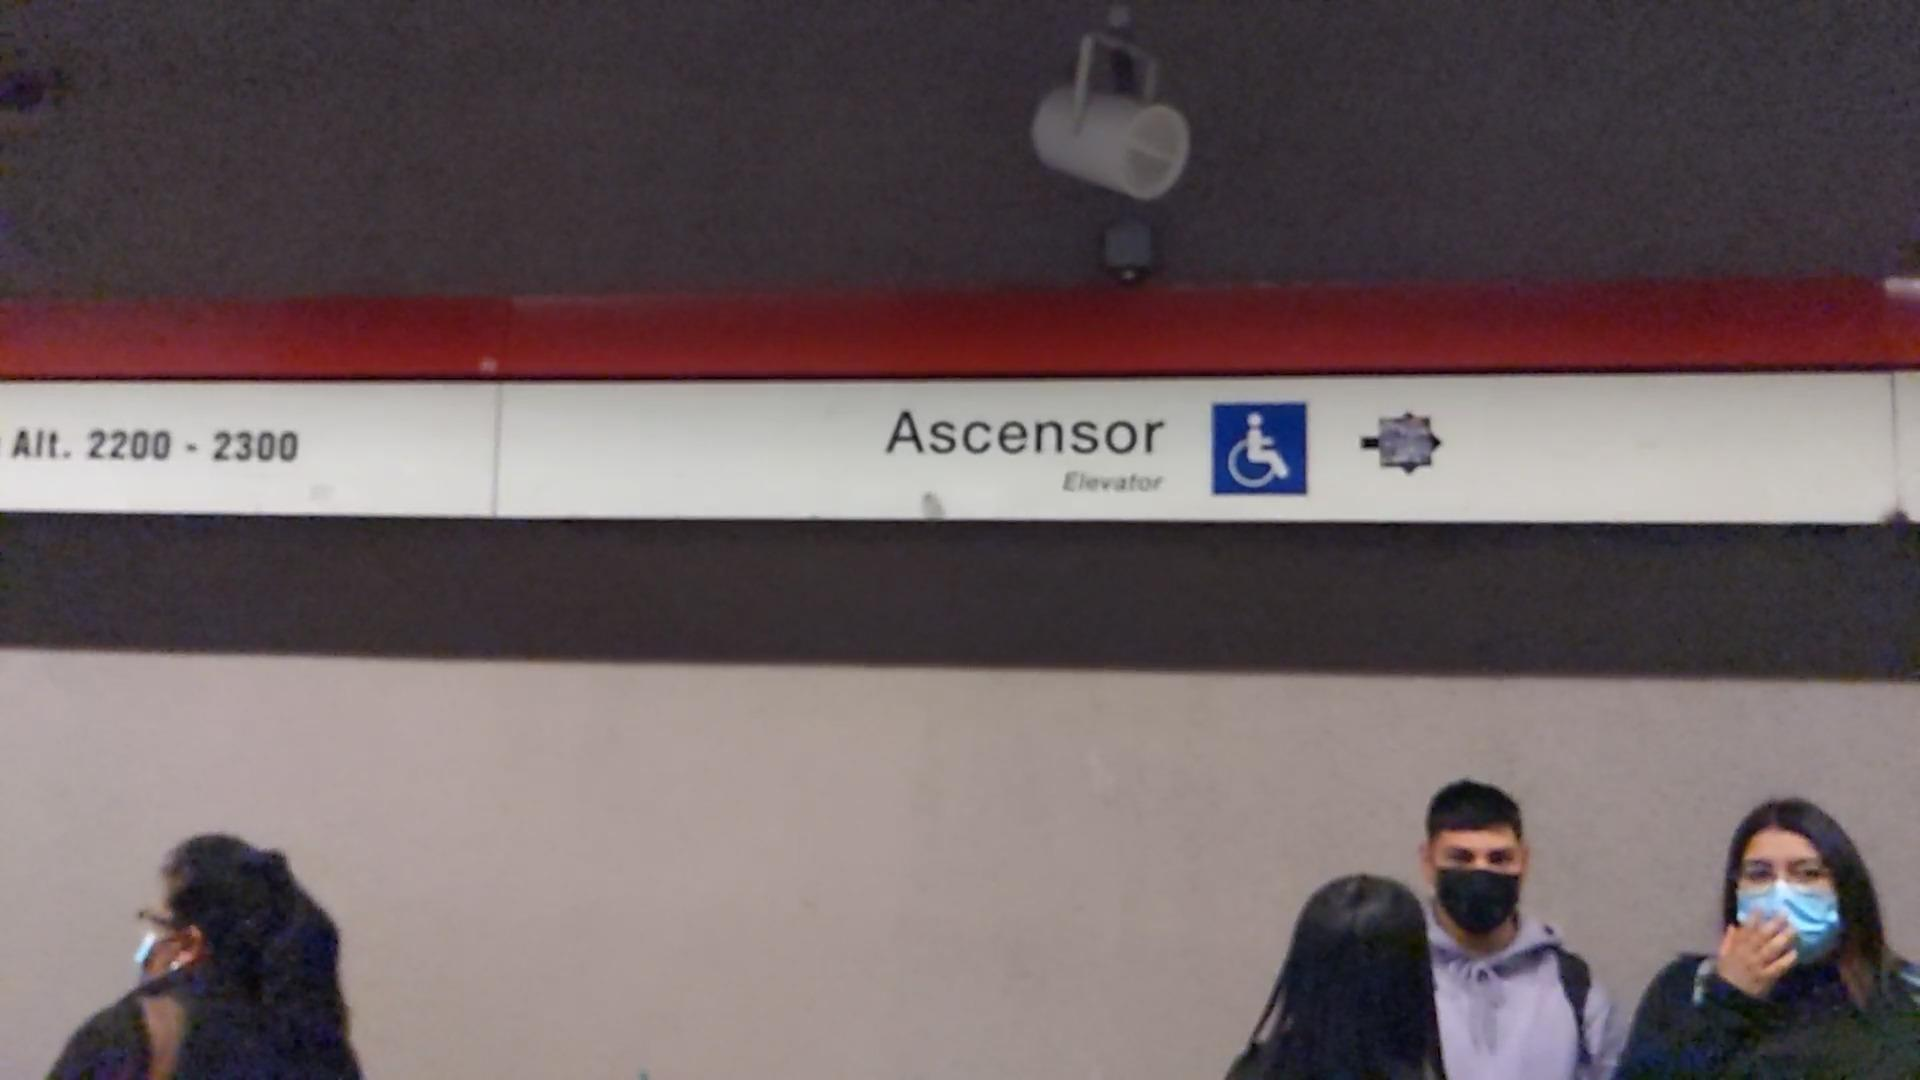handicapped symbol: (1224, 409, 1290, 492)
